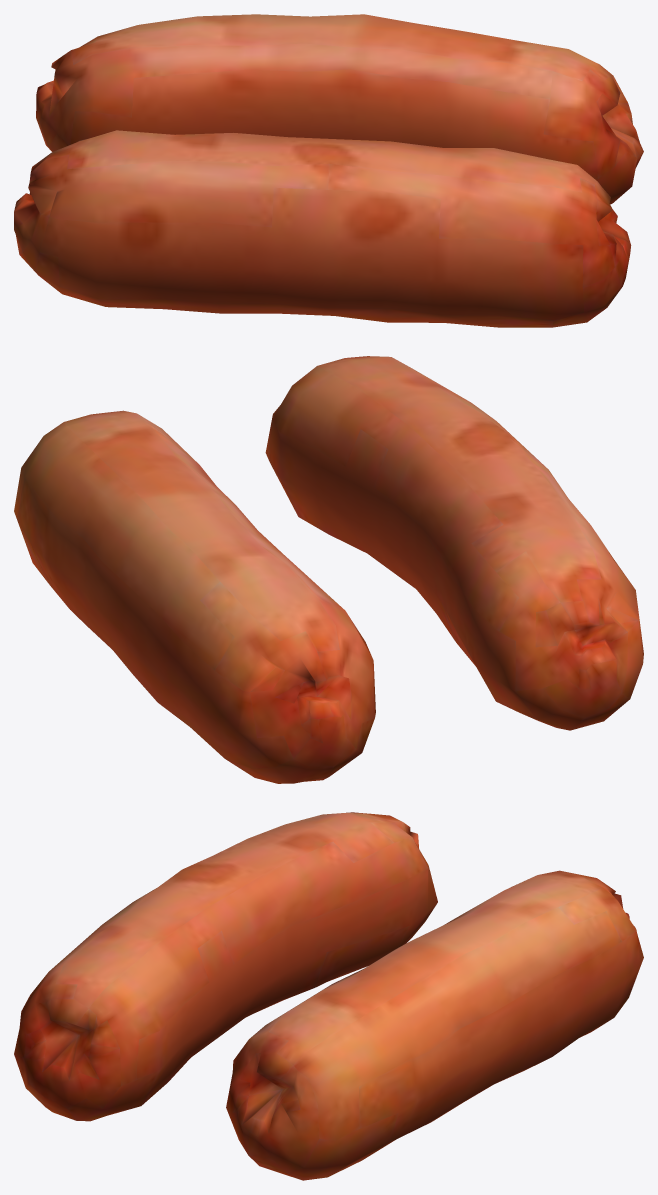
The model's file is sausages.glb.
3 views of the same model, one above another, from view 1: azimuth 30°, elevation 25°; view 2: azimuth 150°, elevation 25°; view 3: azimuth 270°, elevation 25° (orthographic). The views are drawn at different scales.
Parts seen in each view (by area): view 1: Sausages; view 2: Sausages; view 3: Sausages.
Part boxes in pixels (box(x1,y1,x2,y2)): Sausages: box(14, 14, 643, 327); Sausages: box(14, 356, 643, 783); Sausages: box(14, 812, 643, 1180).
Size of the model in its own units: 1.96 by 0.5256 by 1.92.
1 material, 1 textured.
